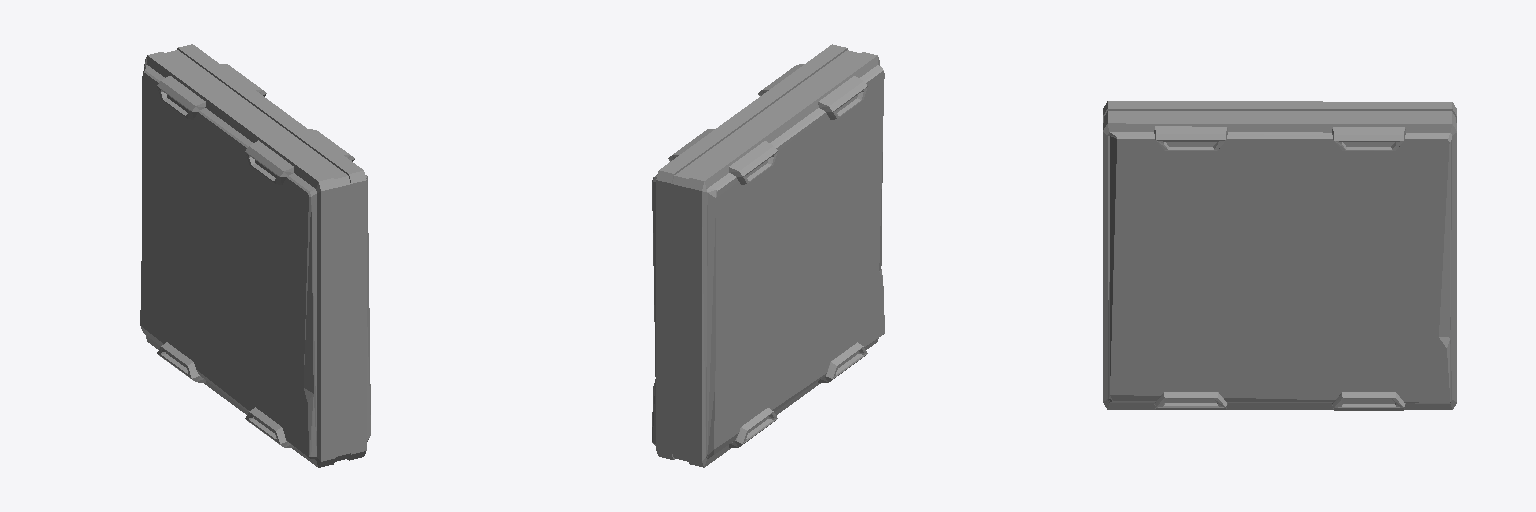
File: wall_m.obj
3 views of the same model, side by side, from view 1: azimuth 30°, elevation 25°; view 2: azimuth 150°, elevation 25°; view 3: azimuth 270°, elevation 25° (orthographic).
Parts seen in each view (by area): view 1: default-default.000_default-default.003; view 2: default-default.000_default-default.003; view 3: default-default.000_default-default.003.
Part boxes in pixels (x1,y1,x2,y2): default-default.000_default-default.003: (140, 44, 370, 467); default-default.000_default-default.003: (652, 44, 884, 467); default-default.000_default-default.003: (1103, 101, 1456, 410).
Size of the model in its own units: 0.3105 by 1.12 by 1.26.